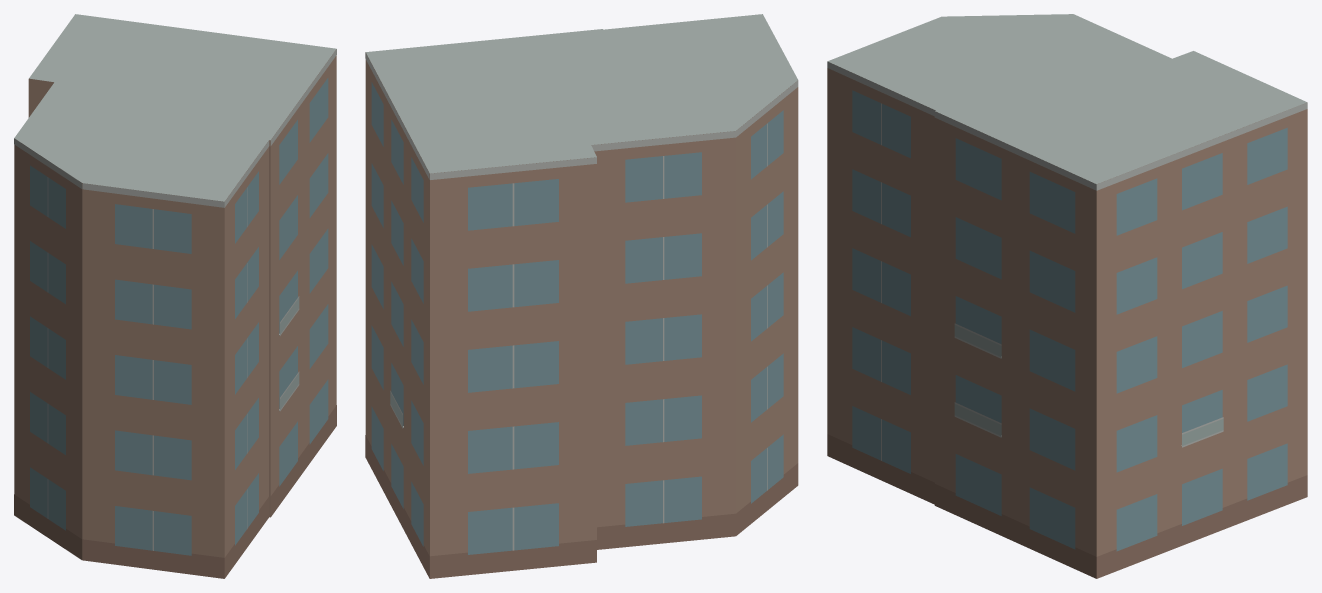
File: survey-upis-32884124.glb
3 views of the same model, side by side, from view 1: azimuth 30°, elevation 25°; view 2: azimuth 150°, elevation 25°; view 3: azimuth 270°, elevation 25° (orthographic). The views are drawn at different scales.
Parts seen in each view (by area): view 1: survey-upis-32884124.tmp; view 2: survey-upis-32884124.tmp; view 3: survey-upis-32884124.tmp.
Boxes of the visible parts, x1,y1,x2,y2 form: survey-upis-32884124.tmp: (14,14,336,578); survey-upis-32884124.tmp: (365,14,798,578); survey-upis-32884124.tmp: (827,14,1307,578).
Bounding box in the file's own units: 13.7 × 14.8 × 16.33.
